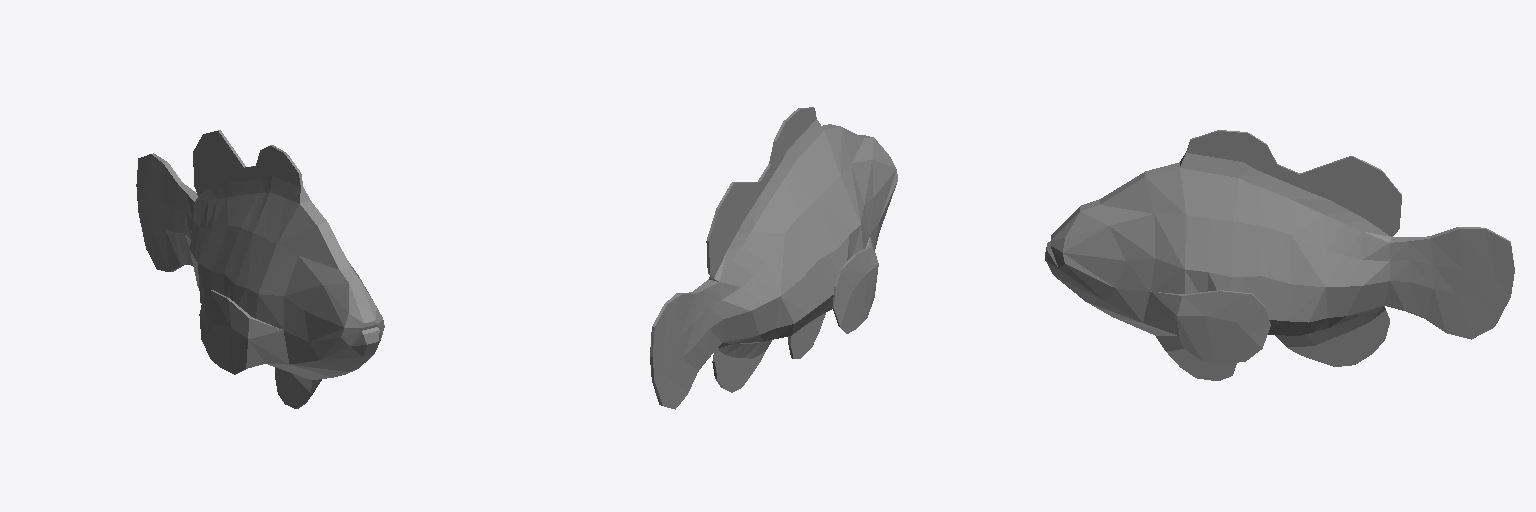
The model's file is TropicalFish12.obj.
The picture shows the model from 3 angles: view 1: azimuth 30°, elevation 25°; view 2: azimuth 150°, elevation 25°; view 3: azimuth 270°, elevation 25°; orthographic projection.
Parts seen in each view (by area): view 1: TropicalFish12; view 2: TropicalFish12; view 3: TropicalFish12.
Part boxes in pixels (x1,y1,x2,y2): TropicalFish12: (136,130,384,408); TropicalFish12: (650,107,897,409); TropicalFish12: (1045,130,1514,380).
Size of the model in its own units: 135 by 254 by 432.